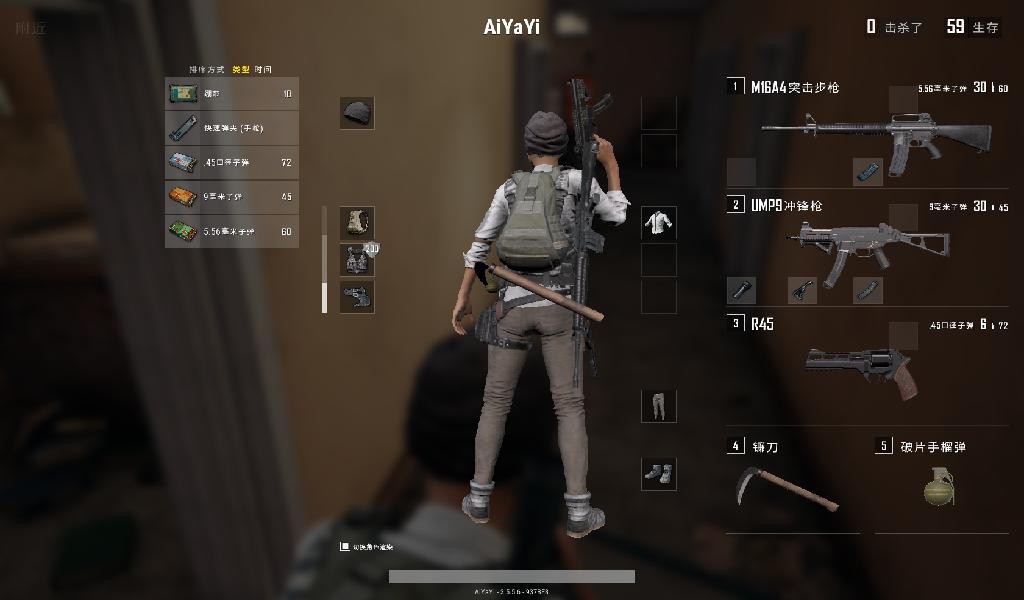Target Person: (448, 75, 631, 540)
